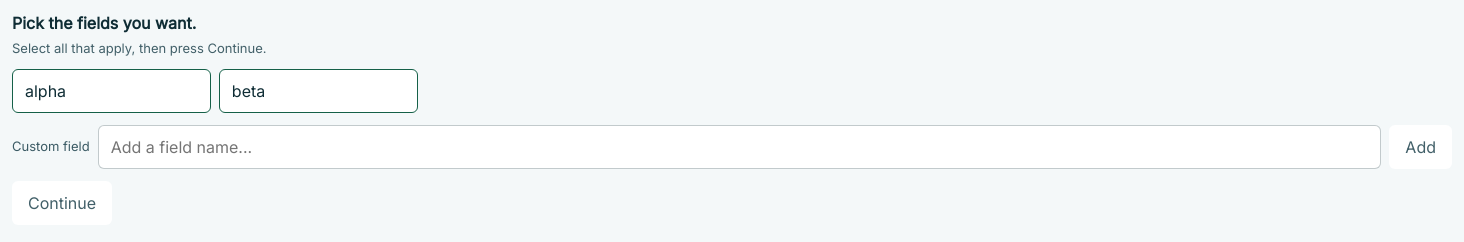
Scenario: MultiSelectWithCustomTurn — Continue disabled on empty assertion › Continue becomes enabled once a chip is toggled on
Expected: the button "Continue" is disabled, [12,181,112,225]
Click the button "alpha". click: (111, 91)
box: [12,69,211,113]
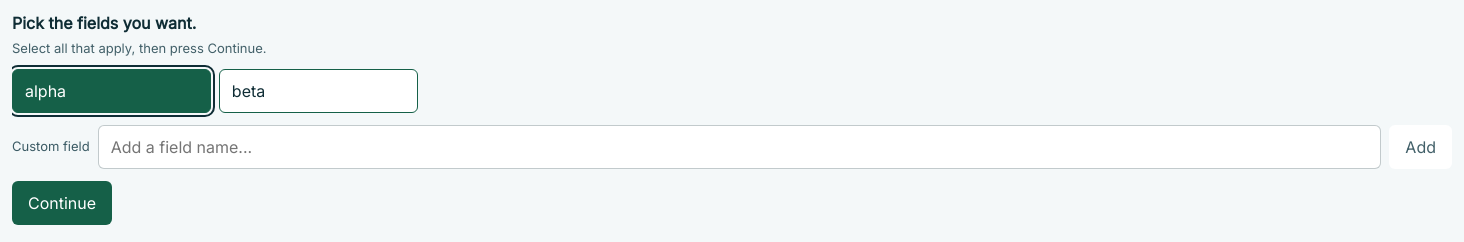
Expected: the button "Continue" is enabled, [12,181,112,225]
